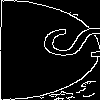S: (25, 25, 100, 60)
